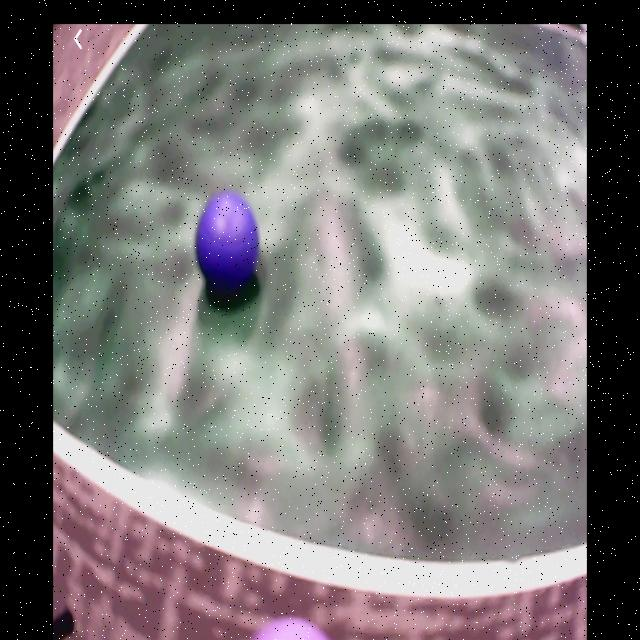ball: (196, 193, 259, 291), (251, 617, 332, 640)
